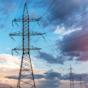power_tower: (10, 2, 43, 88)
